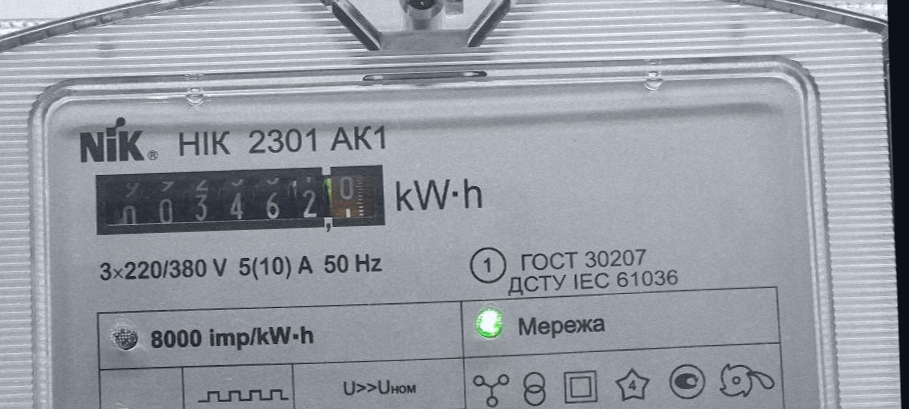0: (156, 194, 175, 224), (337, 173, 355, 201), (118, 201, 138, 225)
2: (300, 186, 319, 219)
3: (191, 191, 210, 223)
4: (228, 188, 246, 221)
6: (262, 187, 283, 222)
9: (120, 179, 141, 199)
screen: (82, 151, 397, 253)
